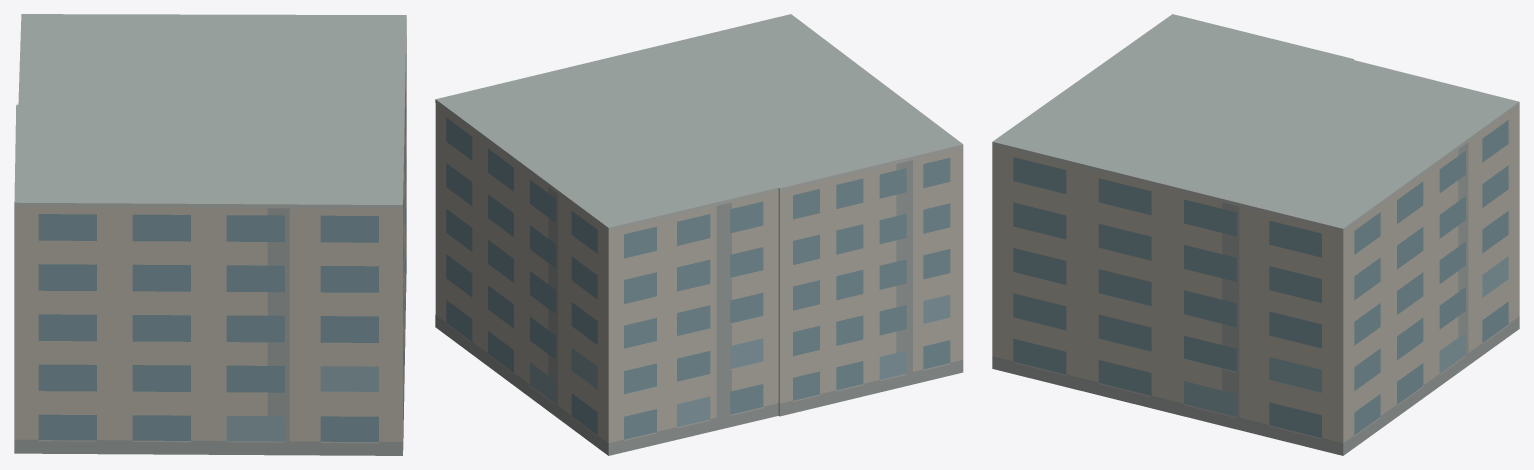
File: survey-upis-32802227.glb
3 views of the same model, side by side, from view 1: azimuth 30°, elevation 25°; view 2: azimuth 150°, elevation 25°; view 3: azimuth 270°, elevation 25° (orthographic). The views are drawn at different scales.
Visible parts, largest first — view 1: survey-upis-32802227.tmp; view 2: survey-upis-32802227.tmp; view 3: survey-upis-32802227.tmp.
Boxes of the visible parts, <box> form: survey-upis-32802227.tmp: <box>14,14,406,455</box>; survey-upis-32802227.tmp: <box>435,14,963,455</box>; survey-upis-32802227.tmp: <box>992,14,1519,455</box>.
Bounding box in the file's own units: 30.95 × 15.25 × 32.1.
